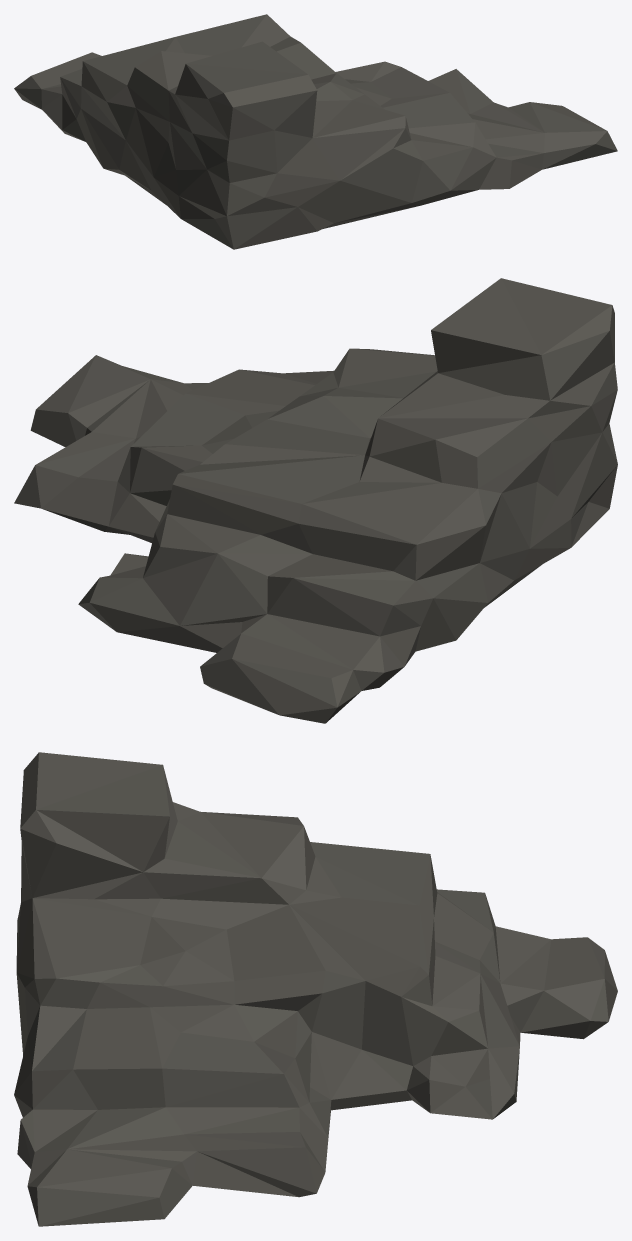
The model's file is Rock_CornerPile.fbx.
3 views of the same model, one above another, from view 1: azimuth 30°, elevation 25°; view 2: azimuth 150°, elevation 25°; view 3: azimuth 270°, elevation 25° (orthographic). The views are drawn at different scales.
Parts seen in each view (by area): view 1: Rock_CornerPile; view 2: Rock_CornerPile; view 3: Rock_CornerPile.
Boxes of the visible parts, box(x1,y1,x2,y2) form: Rock_CornerPile: box(14, 14, 617, 249); Rock_CornerPile: box(14, 278, 617, 723); Rock_CornerPile: box(14, 752, 617, 1226).
Bounding box in the file's own units: 925 × 364 × 871.
